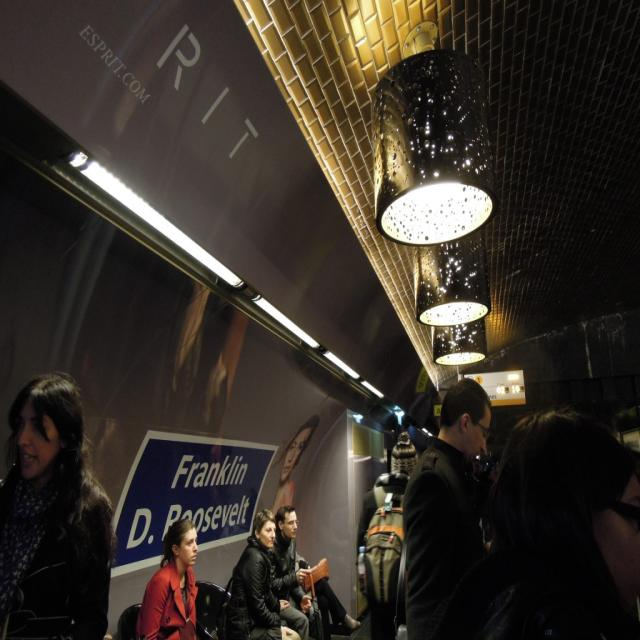body: (480, 408, 639, 640), (0, 370, 116, 639), (393, 377, 501, 639), (142, 264, 250, 433), (358, 430, 418, 640), (133, 518, 223, 639), (228, 509, 302, 639), (269, 505, 325, 639), (252, 410, 324, 504), (295, 549, 363, 640)
